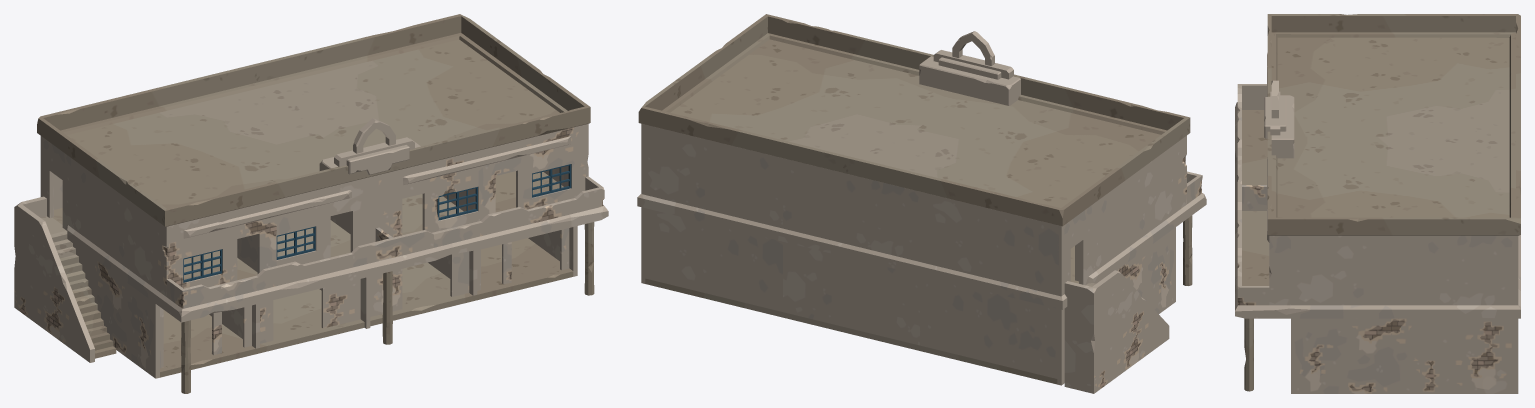
File: SM_Bld_Shop_08.fbx
3 views of the same model, side by side, from view 1: azimuth 30°, elevation 25°; view 2: azimuth 150°, elevation 25°; view 3: azimuth 270°, elevation 25° (orthographic).
Visible parts, largest first — view 1: SM_Bld_Shop_08, SM_Bld_Shop_08_Stairs; view 2: SM_Bld_Shop_08, SM_Bld_Shop_08_Stairs; view 3: SM_Bld_Shop_08.
Part boxes in pixels (x1,y1,x2,y2): SM_Bld_Shop_08: [37, 14, 608, 393]; SM_Bld_Shop_08_Stairs: [14, 196, 116, 362]; SM_Bld_Shop_08: [637, 14, 1206, 385]; SM_Bld_Shop_08_Stairs: [1064, 270, 1169, 393]; SM_Bld_Shop_08: [1235, 14, 1520, 393].
Bounding box in the file's own units: 2282 × 1043 × 1258.
